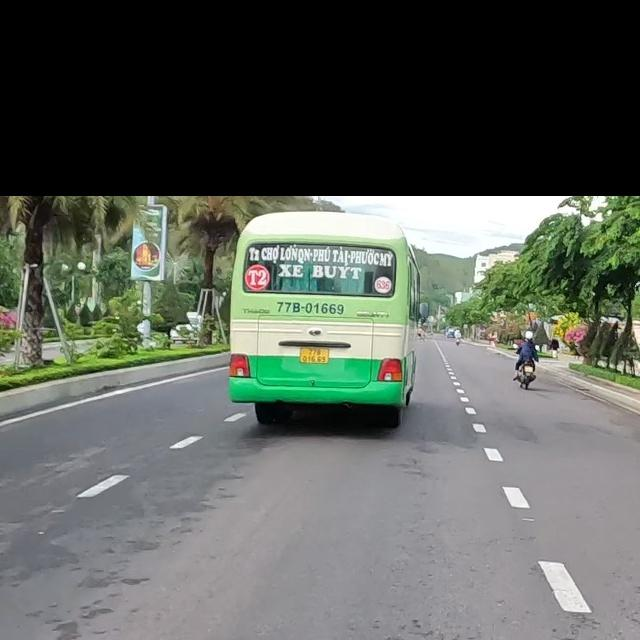license-plate: (299, 348, 329, 364)
